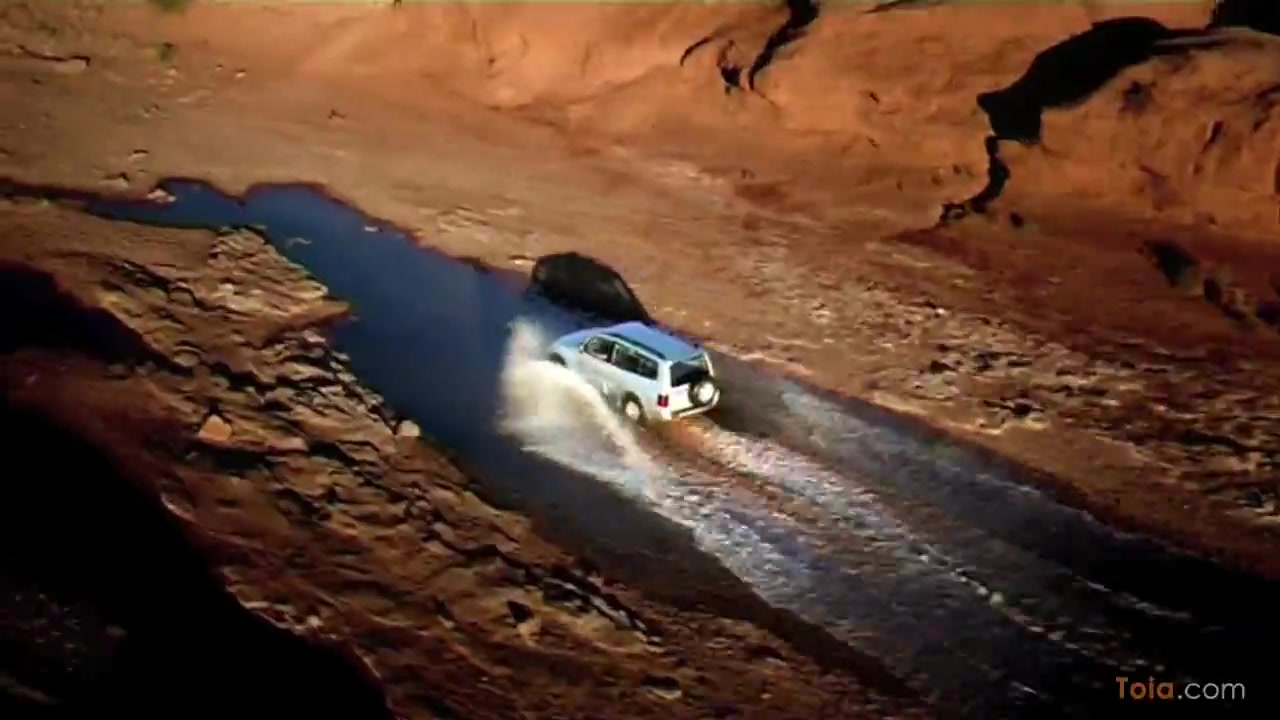car: (547, 319, 726, 434)
